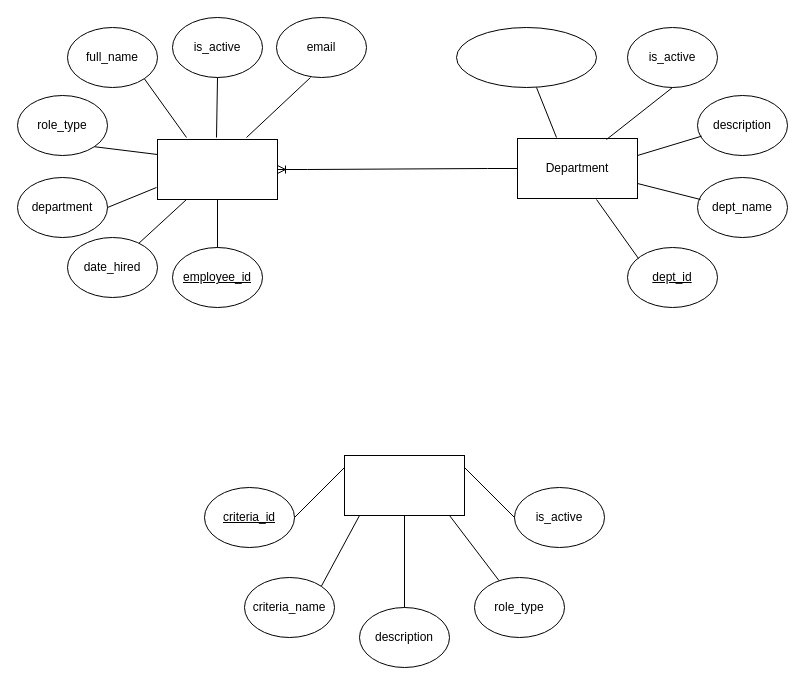
Some shapes in this 805 by 685 pixel diagram are drawn without their labels. Here are the shapes that lost their labels. From the top down, the centre of each, then its label:
(x=526, y=57): number_of_employee
(x=217, y=169): Employee
(x=404, y=485): Criteria
